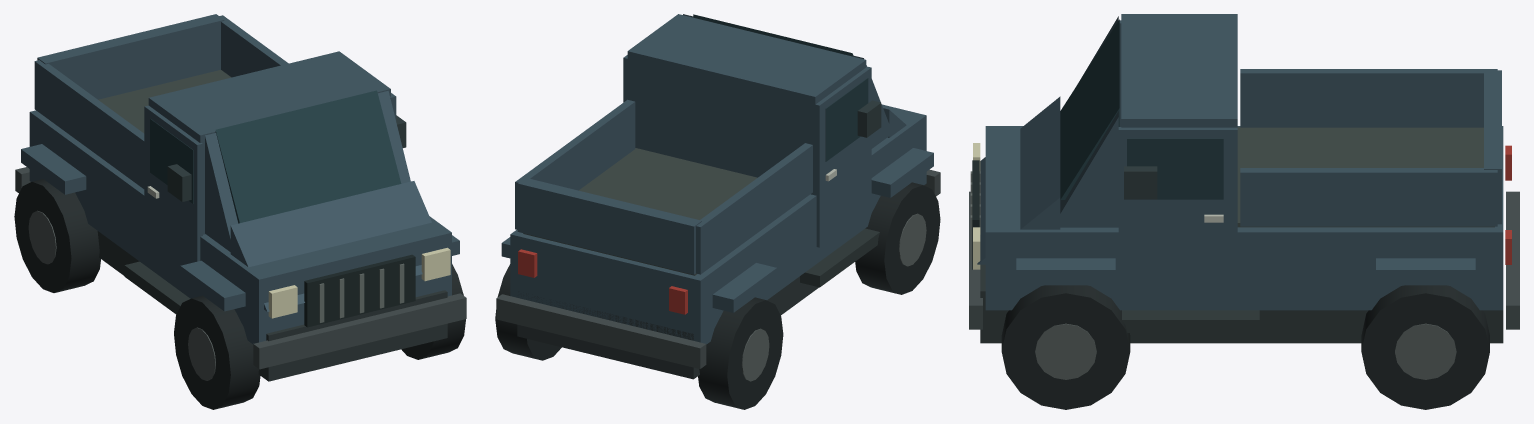
File: CMU3DReduxAU14VehicleCivBlueTruck.glb
3 renders of one model, left to right at view 1: azimuth 30°, elevation 25°; view 2: azimuth 150°, elevation 25°; view 3: azimuth 270°, elevation 25°, orthographic. The views are drawn at different scales.
Visible parts, largest first — view 1: lower vehicle body, windshield, rubber road tire (×3), cab bulkhead, front hood, tailgate, bed side wall (×2), cab door skin, bumper, sealed chassis, front grille, wheel fender (×2) (+7 smaller); view 2: cab bulkhead, lower vehicle body, rubber road tire (×3), bed side wall (×2), tailgate, cargo bed floor, cab door skin, bumper, sealed chassis, wheel fender (×2), recessed metal wheel hub (×2), side window (+5 smaller); view 3: lower vehicle body, bed side wall (×2), rubber road tire (×2), cab door skin, cab bulkhead, cargo bed floor, sealed chassis, windshield, wheel fender (×2), front hood, recessed metal wheel hub (×2), side window (+6 smaller).
Boxes of the visible parts, bbox=[...] form: lower vehicle body: bbox=[29, 110, 451, 344]; windshield: bbox=[215, 90, 401, 223]; rubber road tire (×3): bbox=[14, 179, 465, 409]; cab bulkhead: bbox=[148, 51, 390, 234]; front hood: bbox=[230, 181, 431, 311]; tailgate: bbox=[37, 14, 224, 99]; bed side wall (×2): bbox=[34, 15, 288, 188]; cab door skin: bbox=[144, 105, 202, 276]; bumper: bbox=[253, 293, 466, 369]; sealed chassis: bbox=[97, 231, 447, 381]; front grille: bbox=[304, 254, 415, 327]; wheel fender (×2): bbox=[21, 144, 245, 311]; cab bulkhead: bbox=[627, 14, 866, 194]; lower vehicle body: bbox=[510, 104, 926, 344]; rubber road tire (×3): bbox=[495, 182, 940, 409]; bed side wall (×2): bbox=[515, 99, 812, 274]; tailgate: bbox=[517, 178, 701, 274]; cargo bed floor: bbox=[523, 148, 757, 275]; cab door skin: bbox=[814, 66, 871, 247]; bumper: bbox=[496, 294, 706, 368]; sealed chassis: bbox=[517, 276, 818, 379]; wheel fender (×2): bbox=[712, 148, 933, 312]; recessed metal wheel hub (×2): bbox=[742, 213, 926, 381]; side window: bbox=[825, 78, 868, 161]; lower vehicle body: bbox=[985, 126, 1503, 310]; bed side wall (×2): bbox=[1240, 69, 1497, 226]; rubber road tire (×2): bbox=[1001, 285, 1489, 409]; cab door skin: bbox=[1118, 127, 1237, 292]; cab bulkhead: bbox=[1121, 14, 1237, 127]; cargo bed floor: bbox=[1237, 127, 1494, 227]; sealed chassis: bbox=[980, 264, 1503, 343]; windshield: bbox=[1060, 19, 1119, 199]; wheel fender (×2): bbox=[1016, 258, 1475, 285]; front hood: bbox=[977, 96, 1060, 264]; recessed metal wheel hub (×2): bbox=[1035, 323, 1456, 379]; side window: bbox=[1127, 138, 1223, 199].
Size of the model in its own units: 1.29 by 1.3 by 2.3.
